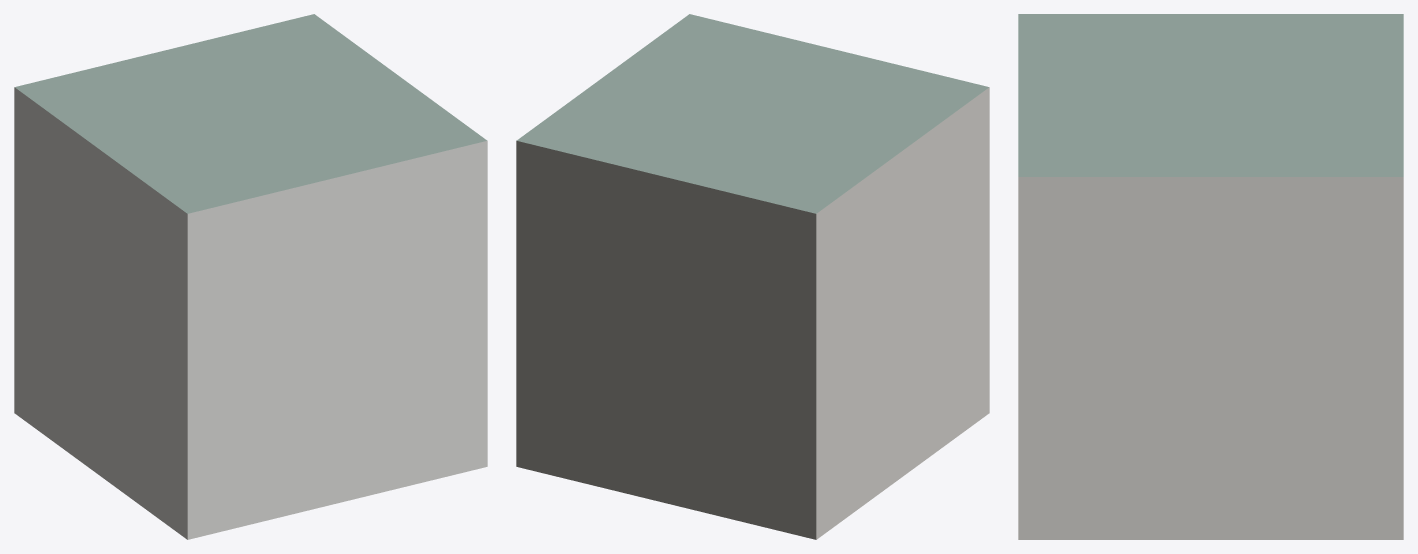
File: room_v1.obj
3 views of the same model, side by side, from view 1: azimuth 30°, elevation 25°; view 2: azimuth 150°, elevation 25°; view 3: azimuth 270°, elevation 25° (orthographic). The views are drawn at different scales.
Parts seen in each view (by area): view 1: ceiling, wall_west, wall_north; view 2: floor, wall_west, wall_north; view 3: wall_east, wall_north.
Part boxes in pixels (bbox=[...]): ceiling: bbox=[187, 140, 487, 539]; wall_west: bbox=[14, 87, 187, 539]; wall_north: bbox=[15, 14, 486, 213]; floor: bbox=[516, 140, 816, 539]; wall_west: bbox=[816, 87, 989, 539]; wall_north: bbox=[517, 14, 988, 213]; wall_east: bbox=[1018, 177, 1403, 539]; wall_north: bbox=[1018, 14, 1403, 176].
Bounding box in the file's own units: 2.56 × 2.66 × 2.56.
